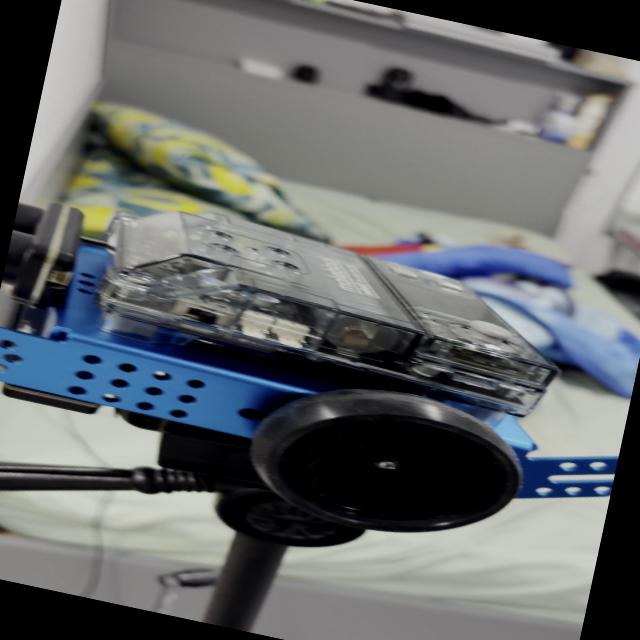mbot-detection: (0, 165, 640, 583)
